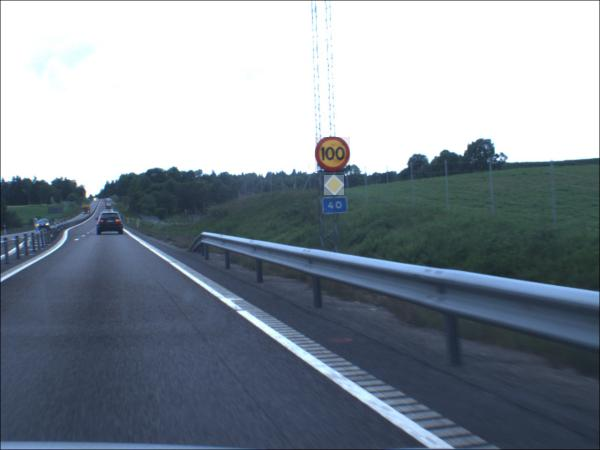100_SIGN: (316, 139, 352, 175)
PRIORITY_ROAD: (325, 176, 346, 197)
